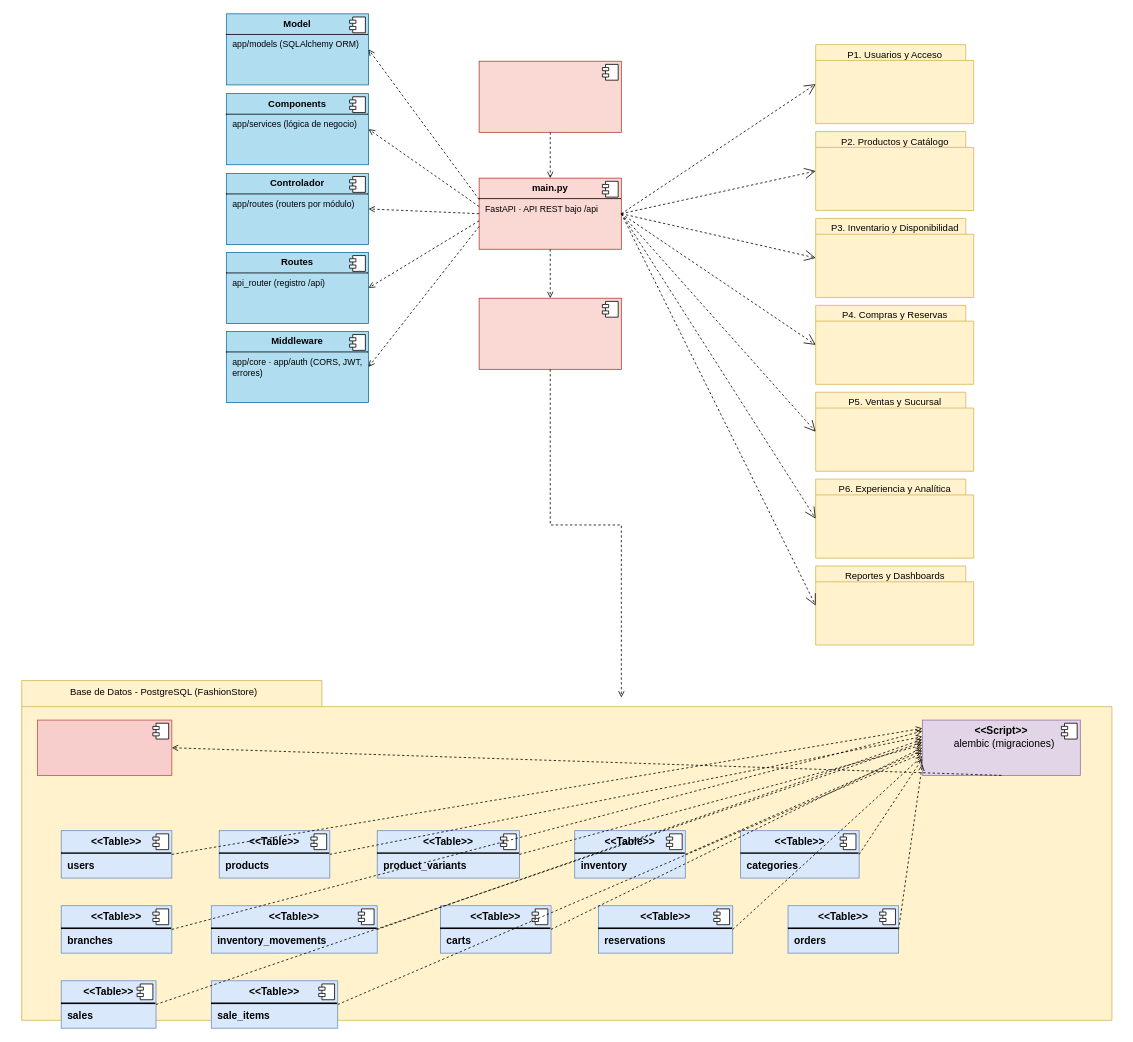
The diagram is 1133 pixels wide and 1042 high, and some of its shapes have lost their labels. The shapes that lost their labels are listed below. From the top down, each one's centre as x and y in pixels, then its label:
At point 549,96: "auth.py Login REST · POST /api/auth/login (JWT)".
At point 549,333: "core/database.py SQLAlchemy · sesión PostgreSQL".
At point 104,747: "PostgreSQL servidor de base de datos".
